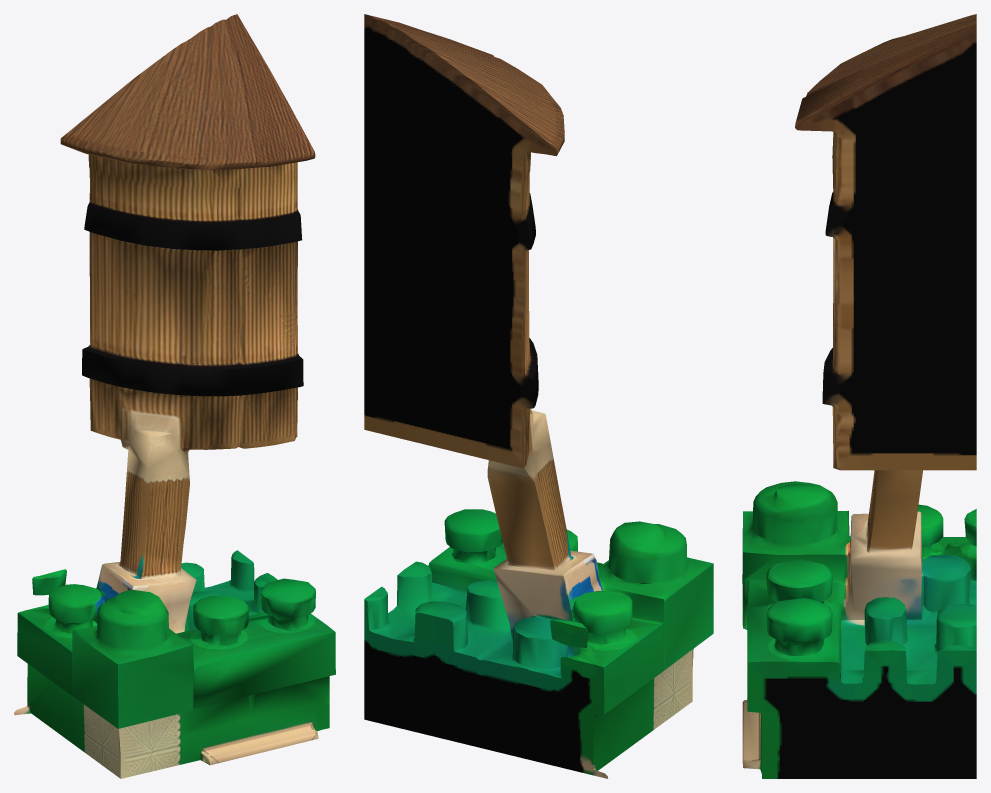
Rendered from 13-topper-front-left.fbx.
3 renders of one model, left to right at view 1: azimuth 30°, elevation 25°; view 2: azimuth 150°, elevation 25°; view 3: azimuth 270°, elevation 25°, orthographic. The views are drawn at different scales.
Visible parts, largest first — view 1: topper-front-left; view 2: topper-front-left; view 3: topper-front-left.
Boxes of the visible parts, left/top/right/bottom form: topper-front-left: left=14, top=14, right=335, bottom=778; topper-front-left: left=364, top=14, right=713, bottom=778; topper-front-left: left=742, top=14, right=976, bottom=778.
Size of the model in its own units: 3475 by 9619 by 2716.
Materials: 1 (1 with a texture image).
